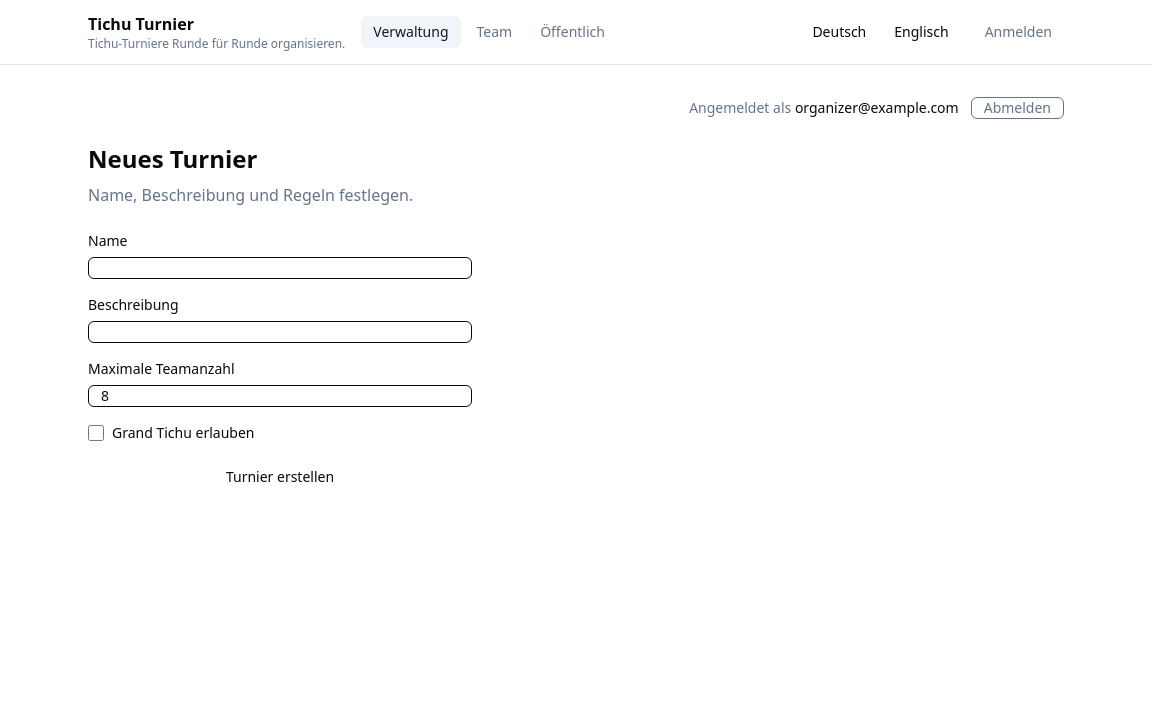
tournament create/edit forms › validates the create form before submitting
Expected: the field labelled "Name" is shown, [88,257,472,279]
Click the button "Turnier erstellen": point(280, 477) [88,459,472,495]
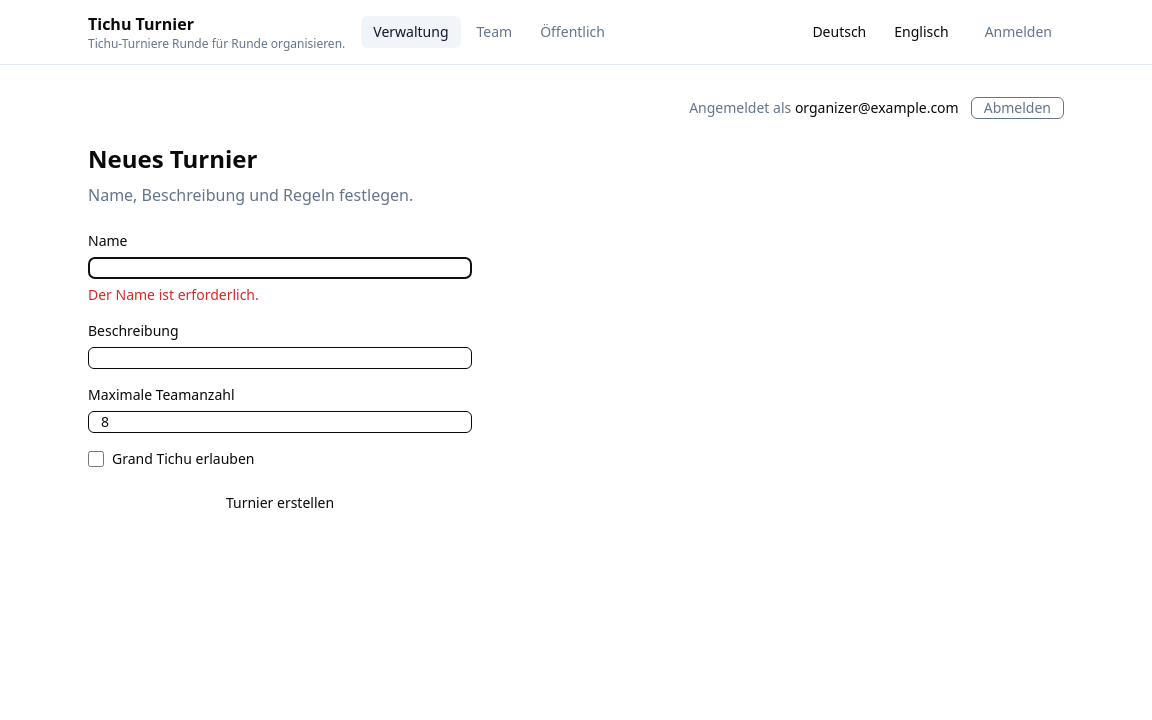
Expected: the text "Der Name ist erforderlich." is shown, [88,285,259,304]
